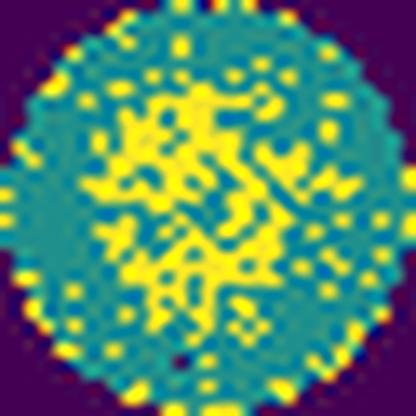Donut: (74, 56, 348, 352)
